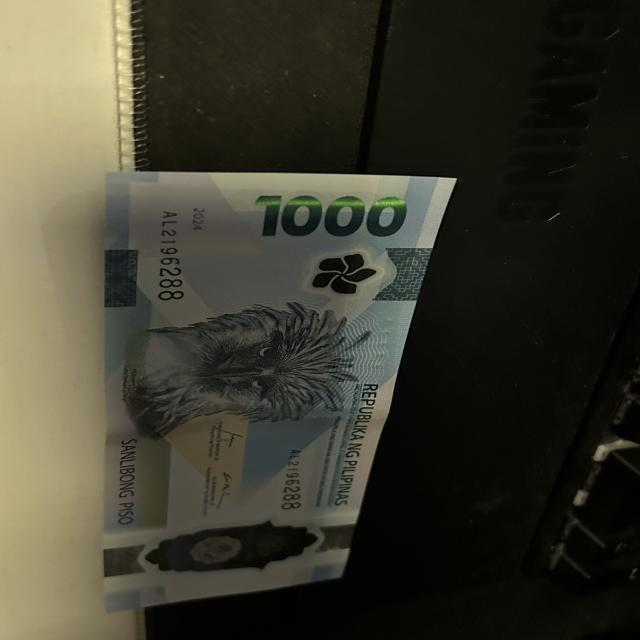clear_window: (140, 516, 334, 575)
eagle: (126, 310, 356, 428)
sampaguita: (308, 249, 380, 298)
serial_number: (149, 202, 191, 304), (274, 439, 315, 514)
